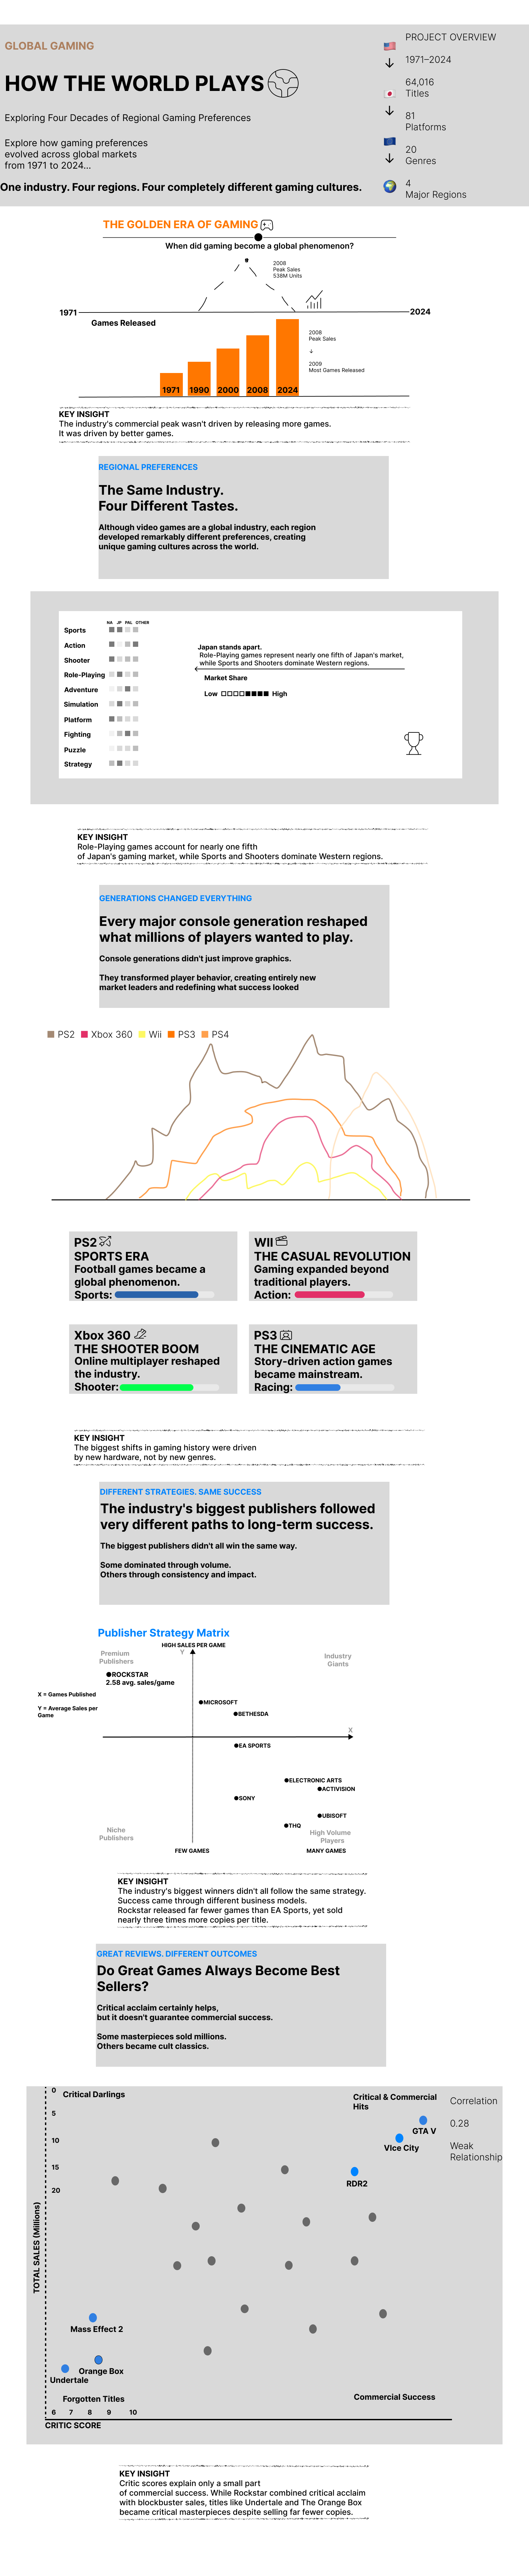

The dashboard page shown, as its layout file describes it:
{"tool":"tableau","page":{"name":"Chapter 1 Dashboard","canvas":[1400,6900],"ordinal":0},"visuals":[{"type":"image","param":"C:/Users/wwwCo/Desktop/Documento.png","box":[0,0,1400,304.6]},{"type":"text","box":[0,304.6,784,400.2]},{"type":"text","box":[784,304.6,616,400.2]},{"type":"blank","box":[0,704.8,1400,32]},{"type":"text","box":[0,736.8,1400,236]},{"type":"blank","box":[0,972.8,1400,12]},{"type":"worksheet","title":"Chapter 1 - Sales Timeline","mark":"Line","rows":["total_sales"],"cols":["release_date"],"box":[0,984.8,1400,392]},{"type":"blank","box":[0,1376.8,1400,7]},{"type":"worksheet","title":"Chapter 1 - Games Released","mark":"Bar","rows":["games_released"],"cols":["year"],"box":[0,1383.7,1400,392]},{"type":"blank","box":[0,1775.7,1400,7]},{"type":"text","box":[0,1782.7,1400,150]},{"type":"blank","box":[0,1932.7,1400,32]},{"type":"text","box":[0,1964.7,1400,296]},{"type":"blank","box":[0,2260.7,1400,12]},{"type":"worksheet","title":"Chapter 2 - Heatmap","mark":"Square","rows":["genre"],"cols":["region"],"box":[0,2272.7,1400,441]},{"type":"blank","box":[0,2713.7,1400,7]},{"type":"text","box":[0,2720.7,1400,179]},{"type":"blank","box":[0,2899.7,1400,32]},{"type":"text","box":[0,2931.7,1400,267]},{"type":"blank","box":[0,3198.7,1400,32]},{"type":"worksheet","title":"Chapter 3 - Stacked Area Chart ","mark":"Area","rows":["total_sales"],"cols":["market_year"],"box":[0,3230.7,1400,600]},{"type":"blank","box":[0,3830.7,1400,7]},{"type":"text","box":[0,3837.7,1400,158]},{"type":"blank","box":[0,3995.7,1400,32]},{"type":"text","box":[0,4027.7,1400,256]},{"type":"blank","box":[0,4283.7,1400,12]},{"type":"worksheet","title":"Chapter 4 - Publisher Landscape","mark":"Circle","rows":["total_sales"],"cols":["avg_sales_per_game"],"box":[0,4295.7,1400,650]},{"type":"blank","box":[0,4945.7,1400,7]},{"type":"text","box":[0,4952.7,1400,150]},{"type":"blank","box":[0,5102.7,1400,32]},{"type":"text","box":[0,5134.7,1400,250]},{"type":"blank","box":[0,5384.7,1400,12]},{"type":"worksheet","title":"Chapter 5 — Critical Acclaim vs Commercial Success","mark":"Circle","rows":["total_sales"],"cols":["critic_score"],"box":[0,5396.7,1400,700]},{"type":"blank","box":[0,6096.7,1400,7]},{"type":"text","box":[0,6103.7,1400,179]},{"type":"blank","box":[0,6282.7,1400,52]},{"type":"text","box":[0,6334.7,710,565.3]},{"type":"text","box":[710,6334.7,690,565.3]}]}

Visuals, with their boxes in screenshot pixels (x1, y1, x2, y2), scaled from the page's 1400x6900 canvas onto the 529x2576 screenshot:
image: Rect(0, 0, 529, 114)
text: Rect(0, 114, 296, 263)
text: Rect(296, 114, 529, 263)
blank: Rect(0, 263, 529, 275)
text: Rect(0, 275, 529, 363)
blank: Rect(0, 363, 529, 368)
"Chapter 1 - Sales Timeline" worksheet (Line marks): Rect(0, 368, 529, 514)
blank: Rect(0, 514, 529, 517)
"Chapter 1 - Games Released" worksheet (Bar marks): Rect(0, 517, 529, 663)
blank: Rect(0, 663, 529, 666)
text: Rect(0, 666, 529, 722)
blank: Rect(0, 722, 529, 733)
text: Rect(0, 733, 529, 844)
blank: Rect(0, 844, 529, 849)
"Chapter 2 - Heatmap" worksheet (Square marks): Rect(0, 849, 529, 1013)
blank: Rect(0, 1013, 529, 1016)
text: Rect(0, 1016, 529, 1083)
blank: Rect(0, 1083, 529, 1095)
text: Rect(0, 1095, 529, 1194)
blank: Rect(0, 1194, 529, 1206)
"Chapter 3 - Stacked Area Chart " worksheet (Area marks): Rect(0, 1206, 529, 1430)
blank: Rect(0, 1430, 529, 1433)
text: Rect(0, 1433, 529, 1492)
blank: Rect(0, 1492, 529, 1504)
text: Rect(0, 1504, 529, 1599)
blank: Rect(0, 1599, 529, 1604)
"Chapter 4 - Publisher Landscape" worksheet (Circle marks): Rect(0, 1604, 529, 1847)
blank: Rect(0, 1847, 529, 1849)
text: Rect(0, 1849, 529, 1905)
blank: Rect(0, 1905, 529, 1917)
text: Rect(0, 1917, 529, 2010)
blank: Rect(0, 2010, 529, 2015)
"Chapter 5 — Critical Acclaim vs Commercial Success" worksheet (Circle marks): Rect(0, 2015, 529, 2276)
blank: Rect(0, 2276, 529, 2279)
text: Rect(0, 2279, 529, 2346)
blank: Rect(0, 2346, 529, 2365)
text: Rect(0, 2365, 268, 2576)
text: Rect(268, 2365, 529, 2576)
